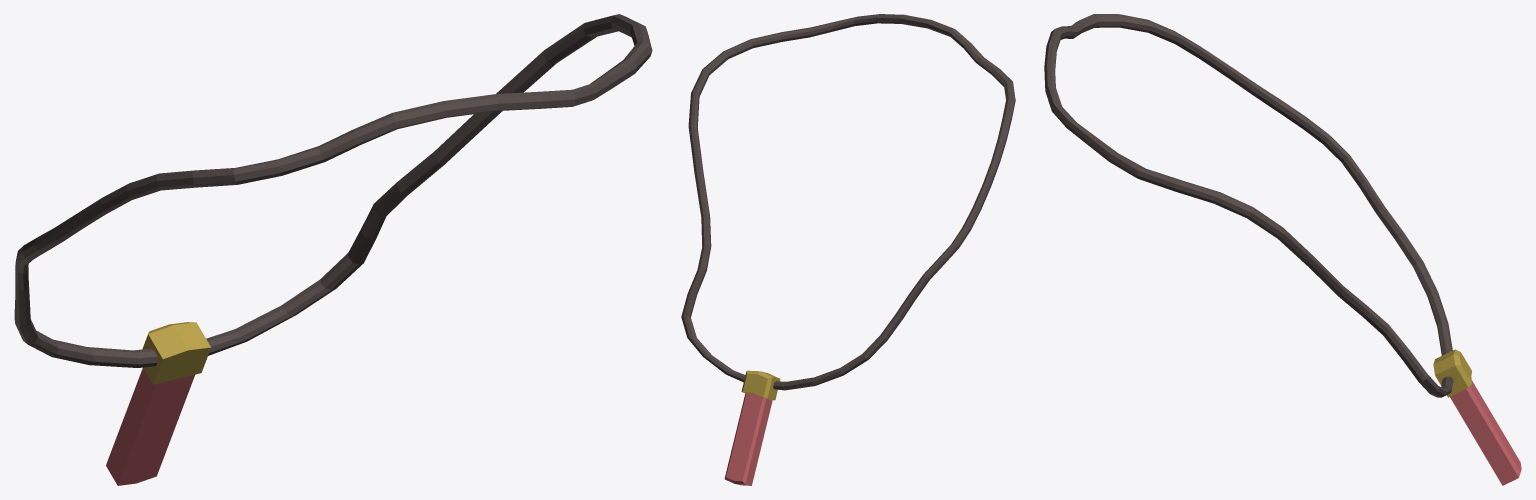
Rendered from SM_Necklace2.fbx.
3 renders of one model, left to right at view 1: azimuth 30°, elevation 25°; view 2: azimuth 150°, elevation 25°; view 3: azimuth 270°, elevation 25°, orthographic. The views are drawn at different scales.
Visible parts, largest first — view 1: SM_Necklace2; view 2: SM_Necklace2; view 3: SM_Necklace2.
Boxes of the visible parts, bbox=[...] form: SM_Necklace2: bbox=[14, 14, 652, 485]; SM_Necklace2: bbox=[681, 14, 1015, 485]; SM_Necklace2: bbox=[1044, 14, 1521, 485].
Bounding box in the file's own units: 91 × 100 × 101.
